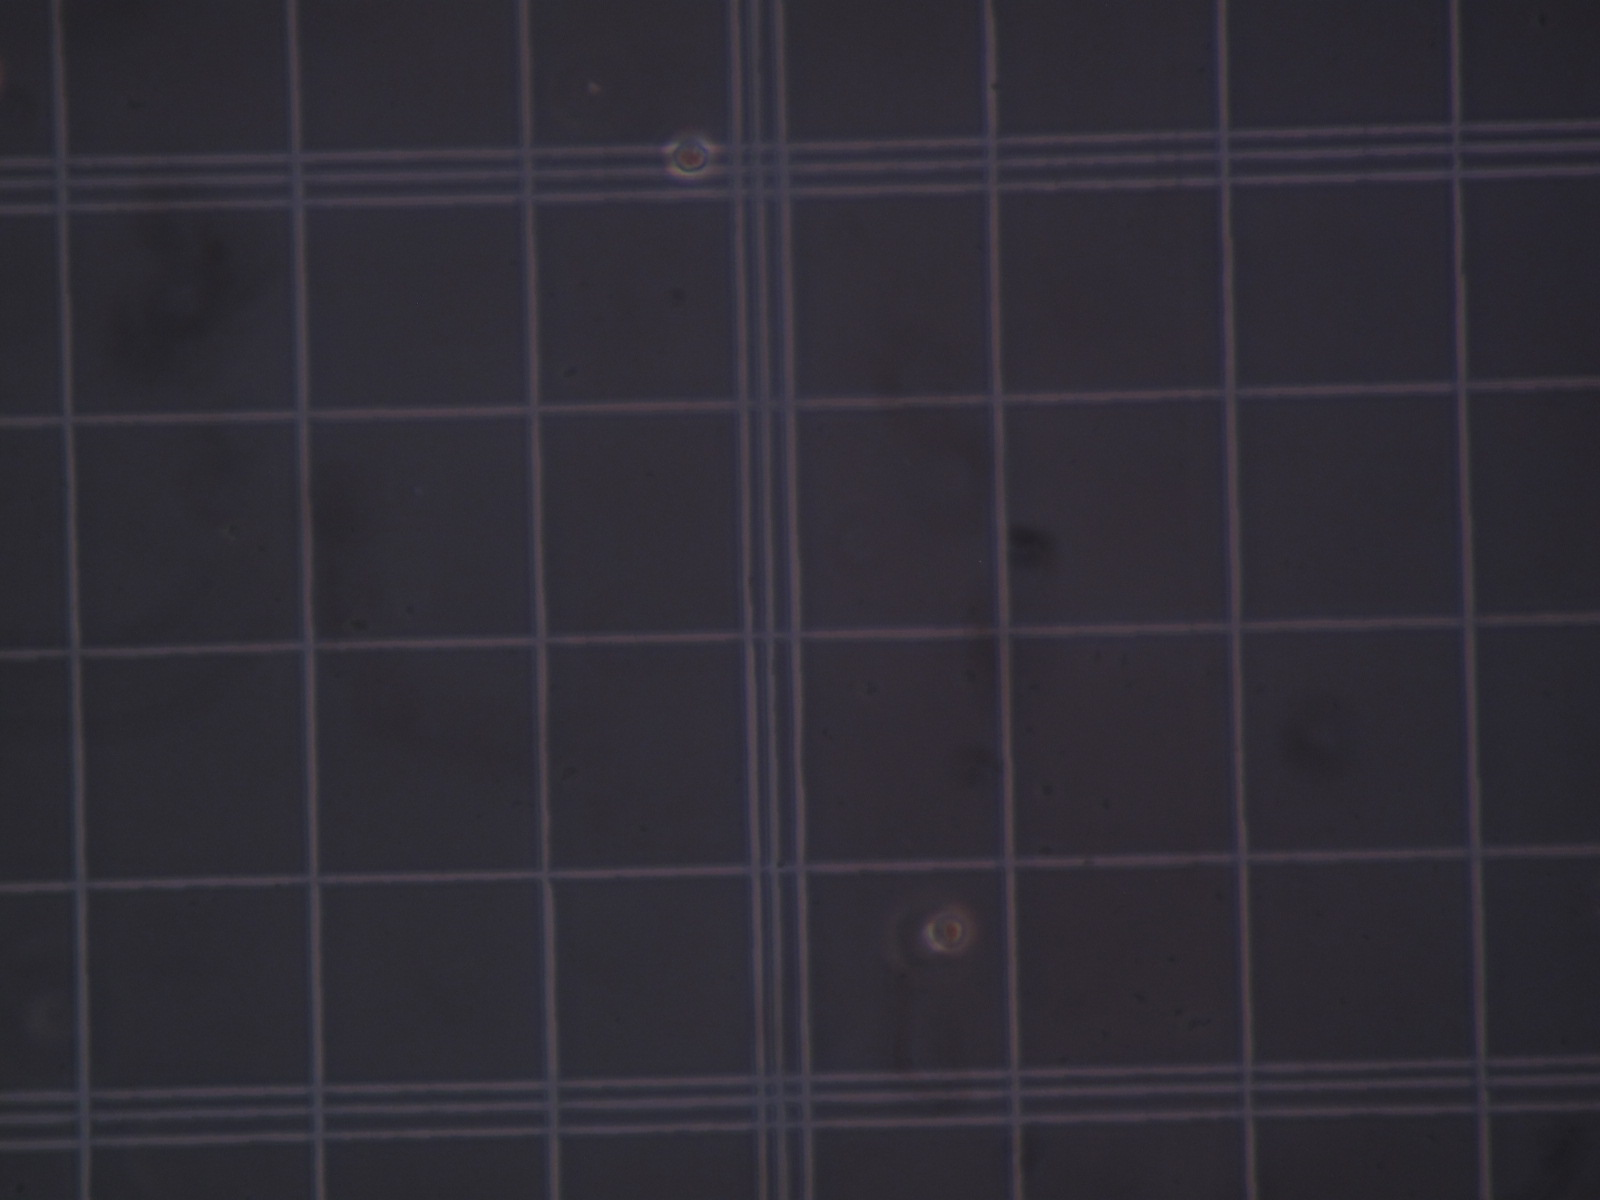hemo: (923, 906, 974, 955), (663, 134, 716, 180)
